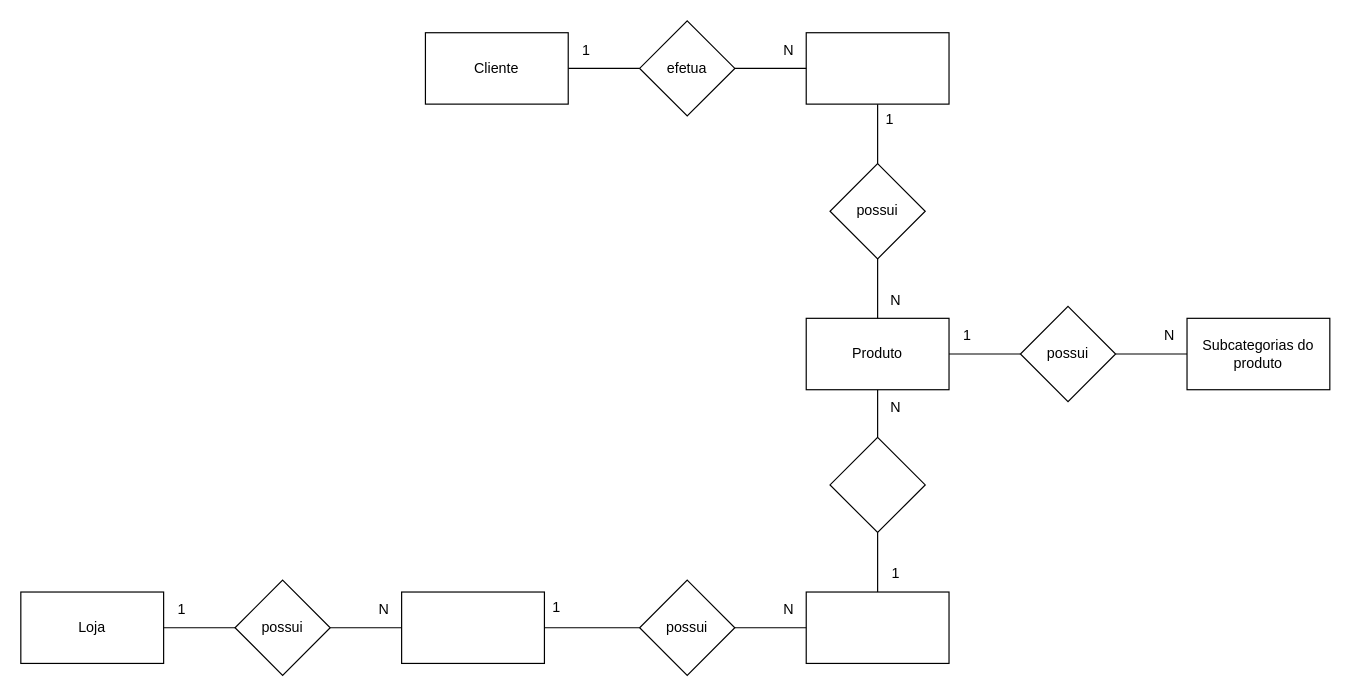
This 1351x696 diagram has some shape labels left out. The shapes that lost their labels are listed below. From the top down, each one's centre as x and y in pixels, then its label:
the point at 877,68: Pedido
the point at 877,484: contem
the point at 472,627: Categorias
the point at 877,627: Subcategorias
